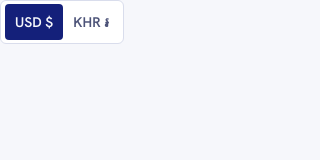
CurrencySwitch › is a radio group that switches the shared currency
Check: the element named "Currency" is shown, box [0,0,124,44]
Check: the radio button labelled "USD $" is checked, box [5,4,63,40]
Click the radio button labelled "KHR ៛": click(91, 22) [63,4,119,40]
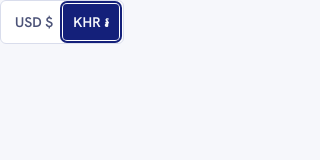
Check: the radio button labelled "KHR ៛" is checked, box [63,4,119,40]
